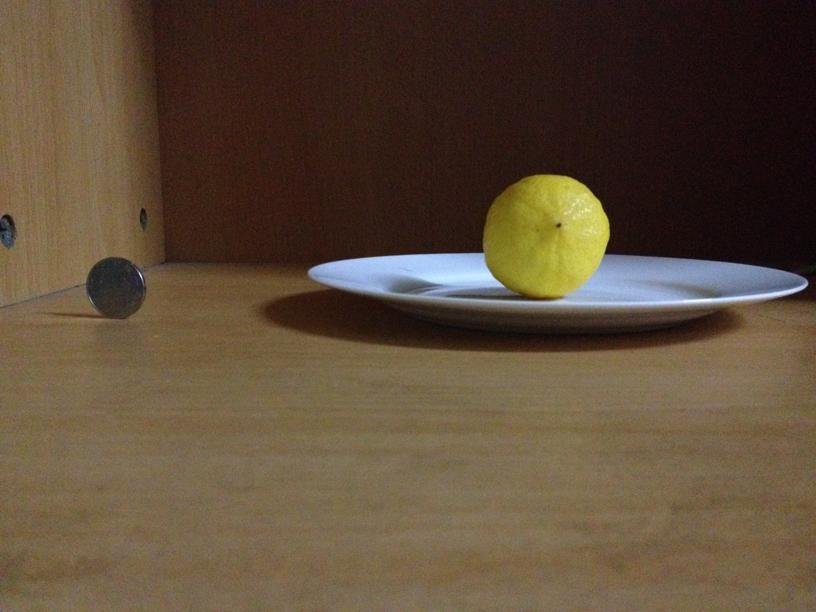coin: (84, 258, 145, 320)
lemon: (481, 176, 611, 298)
